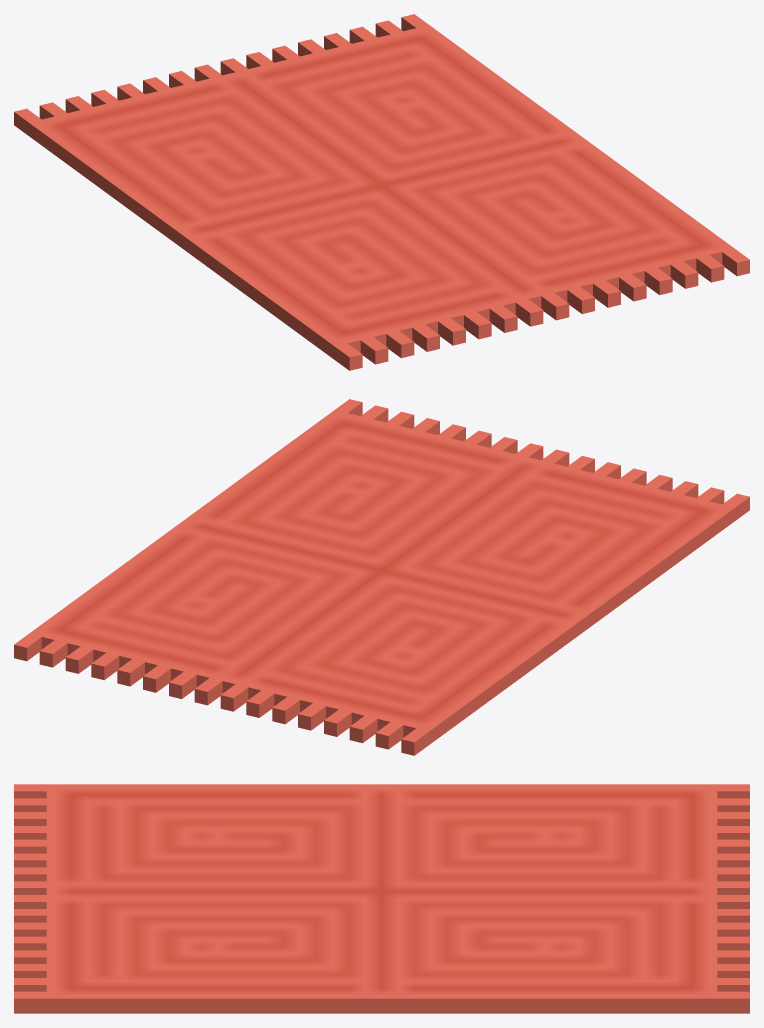
The model's file is carpetred.fbx.
3 renders of one model, top to bottom at view 1: azimuth 30°, elevation 25°; view 2: azimuth 150°, elevation 25°; view 3: azimuth 270°, elevation 25°, orthographic. The views are drawn at different scales.
Visible parts, largest first — view 1: carpetred; view 2: carpetred; view 3: carpetred.
Part boxes in pixels (<box>): carpetred: <box>14,14,749,370</box>; carpetred: <box>14,399,749,755</box>; carpetred: <box>14,784,749,1013</box>.
Size of the model in its own units: 31 by 1 by 45.
